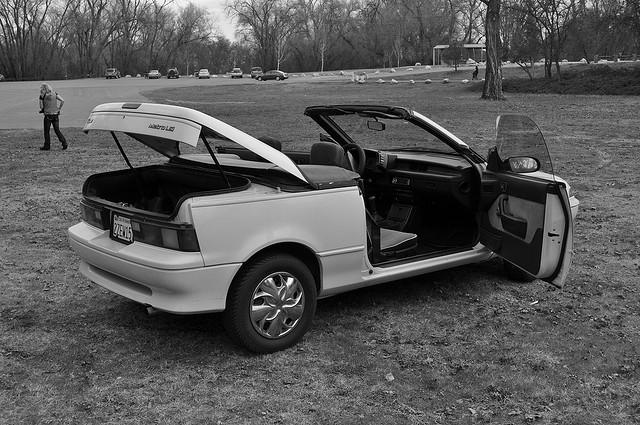car: (65, 101, 583, 357)
